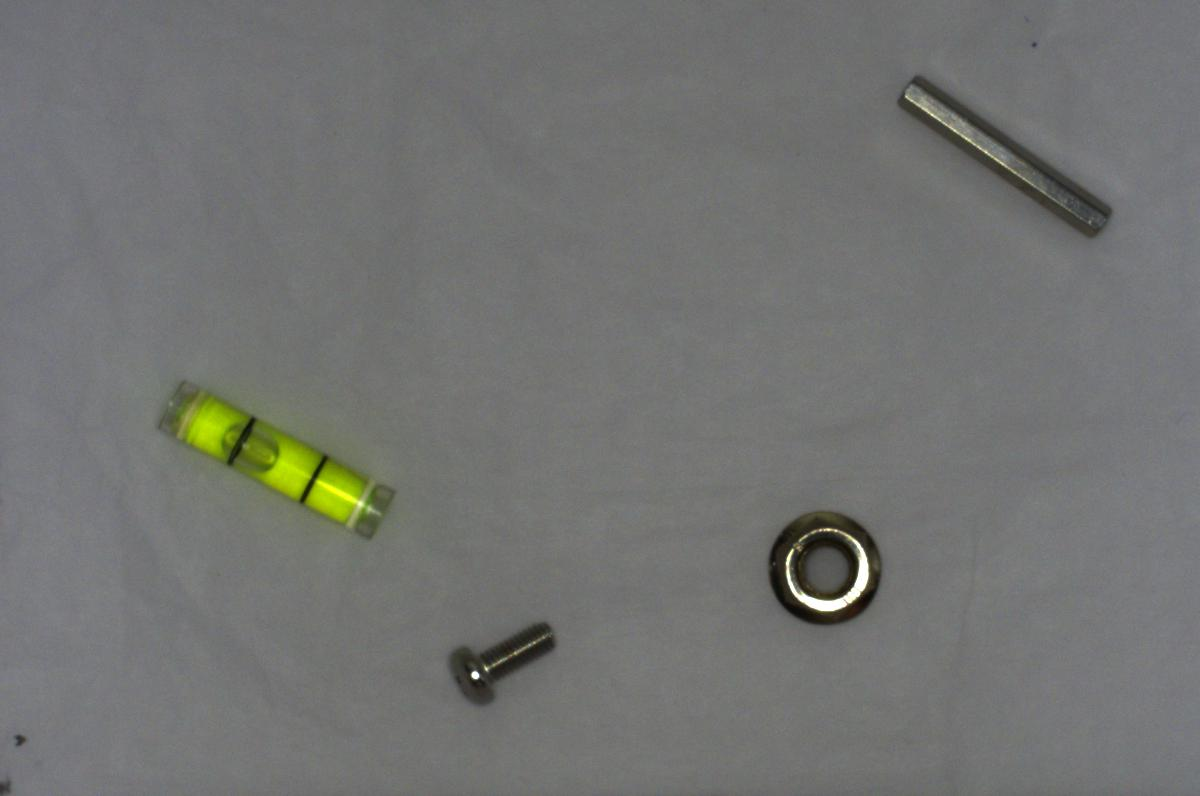Double hexagonal column: (897, 68, 1114, 239)
Flange nut: (755, 502, 884, 628)
Horizontal bubble: (148, 376, 394, 547)
Round head screw: (440, 609, 560, 710)
